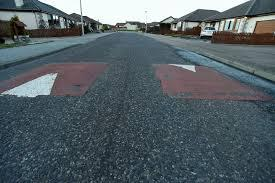Bump: (151, 63, 273, 101), (0, 62, 109, 96)
